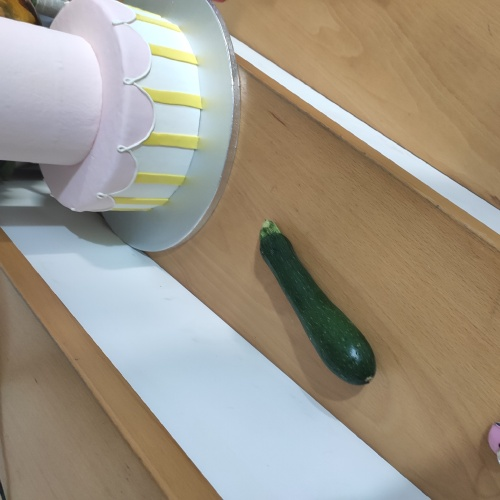zucchine: (251, 218, 391, 393)
